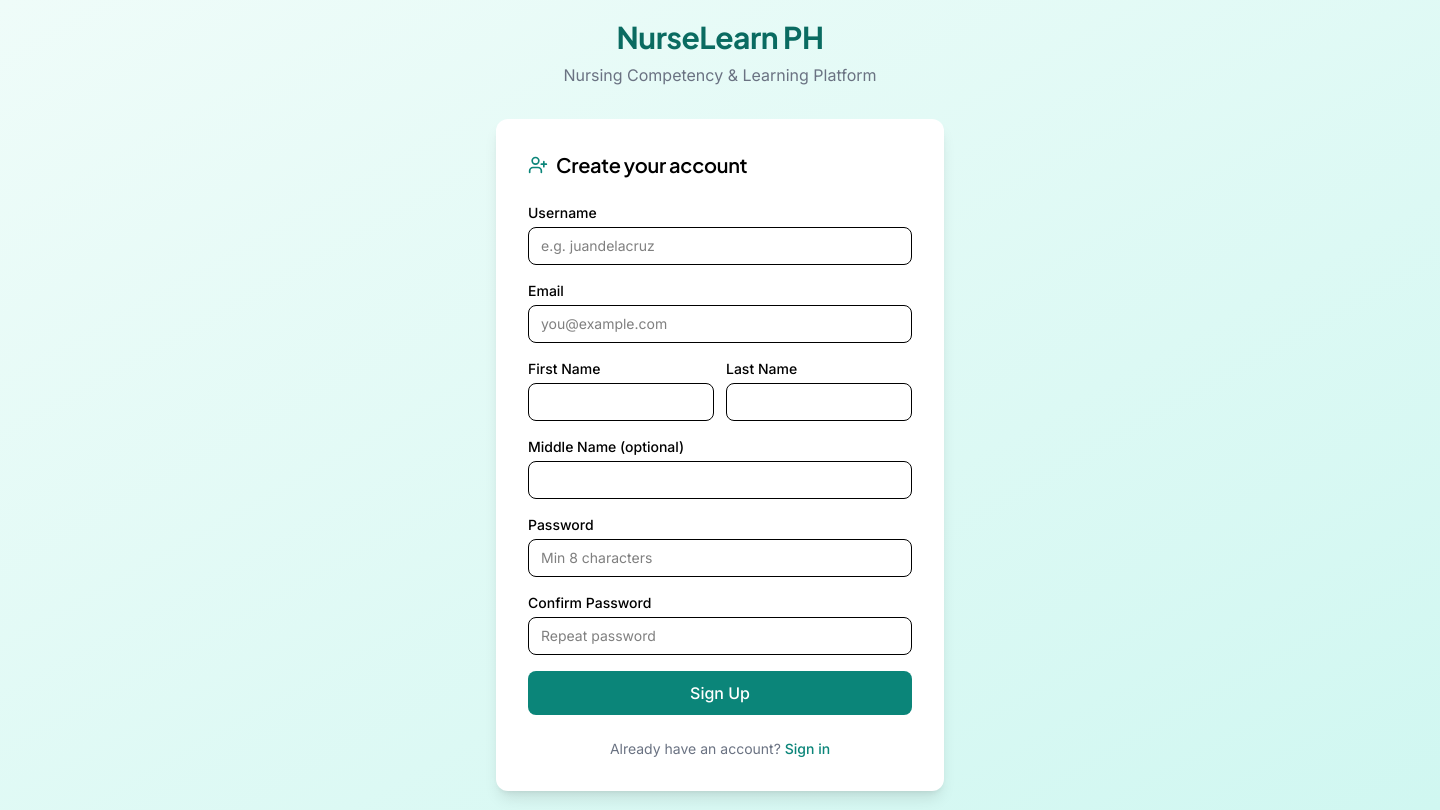
Test: SignupPage › submits registration and shows the check-your-email screen
Expected: the heading "Create your account" is shown, [556,151,747,179]
Type "newnurse01" into the field with test id "signup-username" at (720, 246), box [528,227,912,265]
Type "newnurse01@example.com" into the field with test id "signup-email" at (720, 324), box [528,305,912,343]
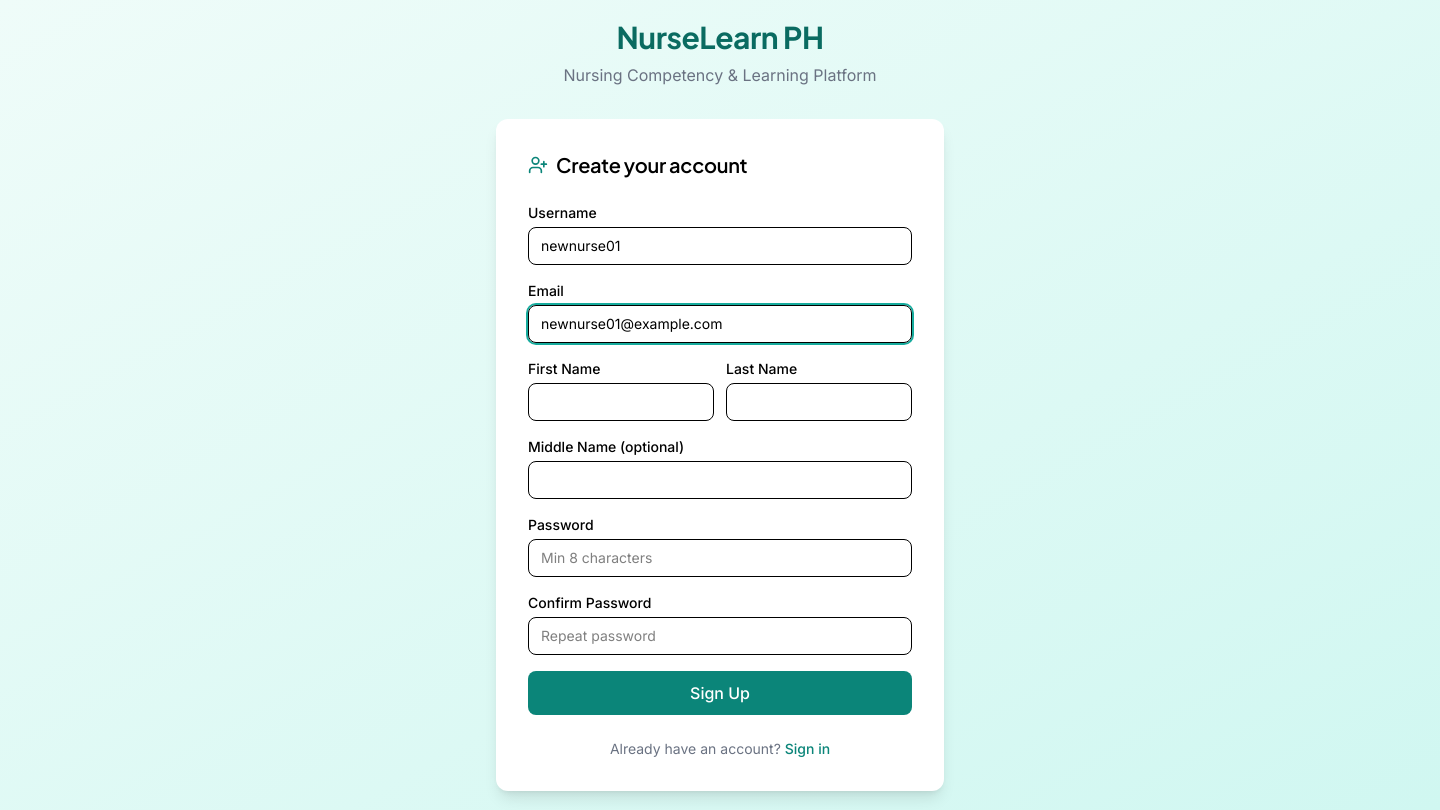
Type "Maria" into the field with test id "signup-firstName" at (621, 402), box [528,383,714,421]
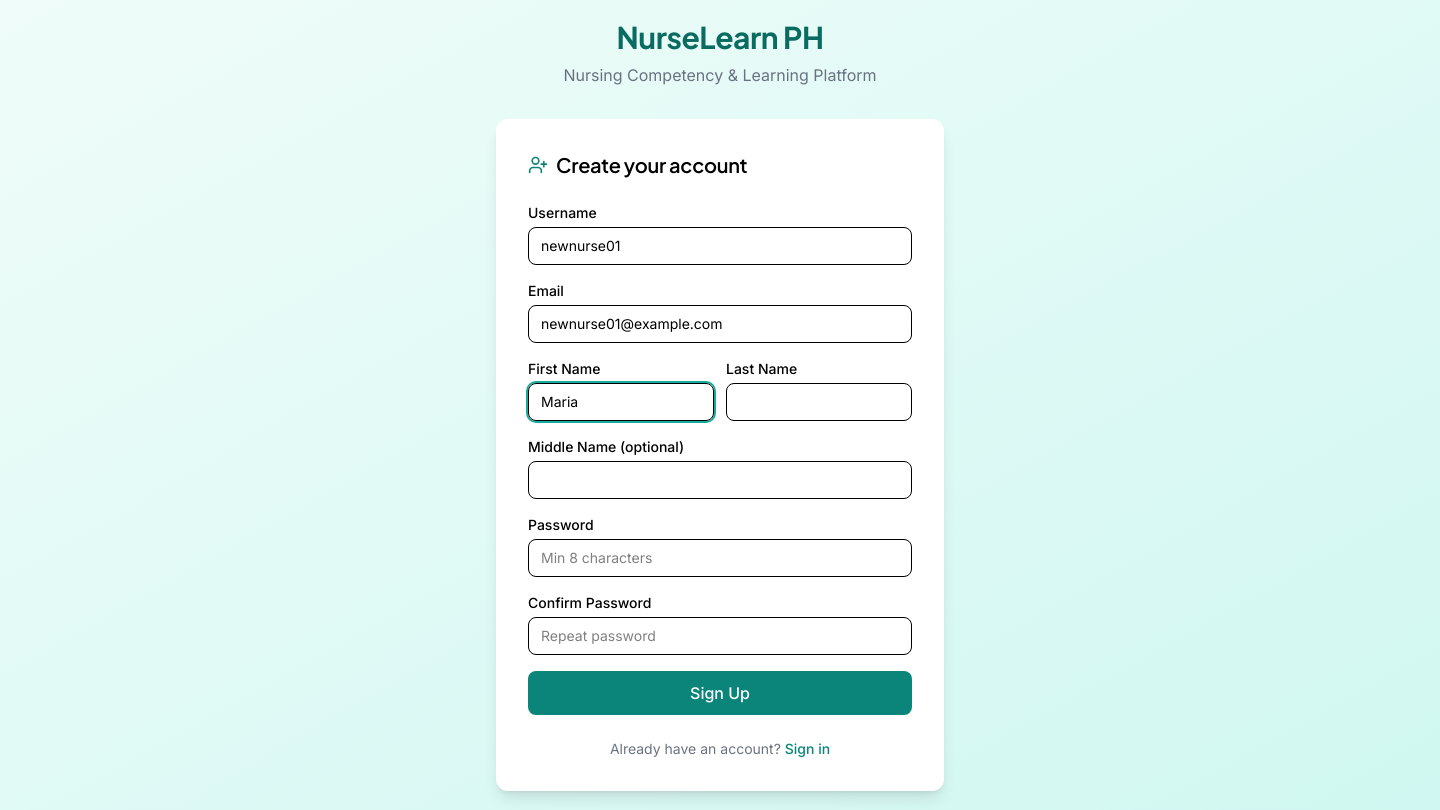
Type "Clara" into the field with test id "signup-lastName" at (819, 402), box [726,383,912,421]
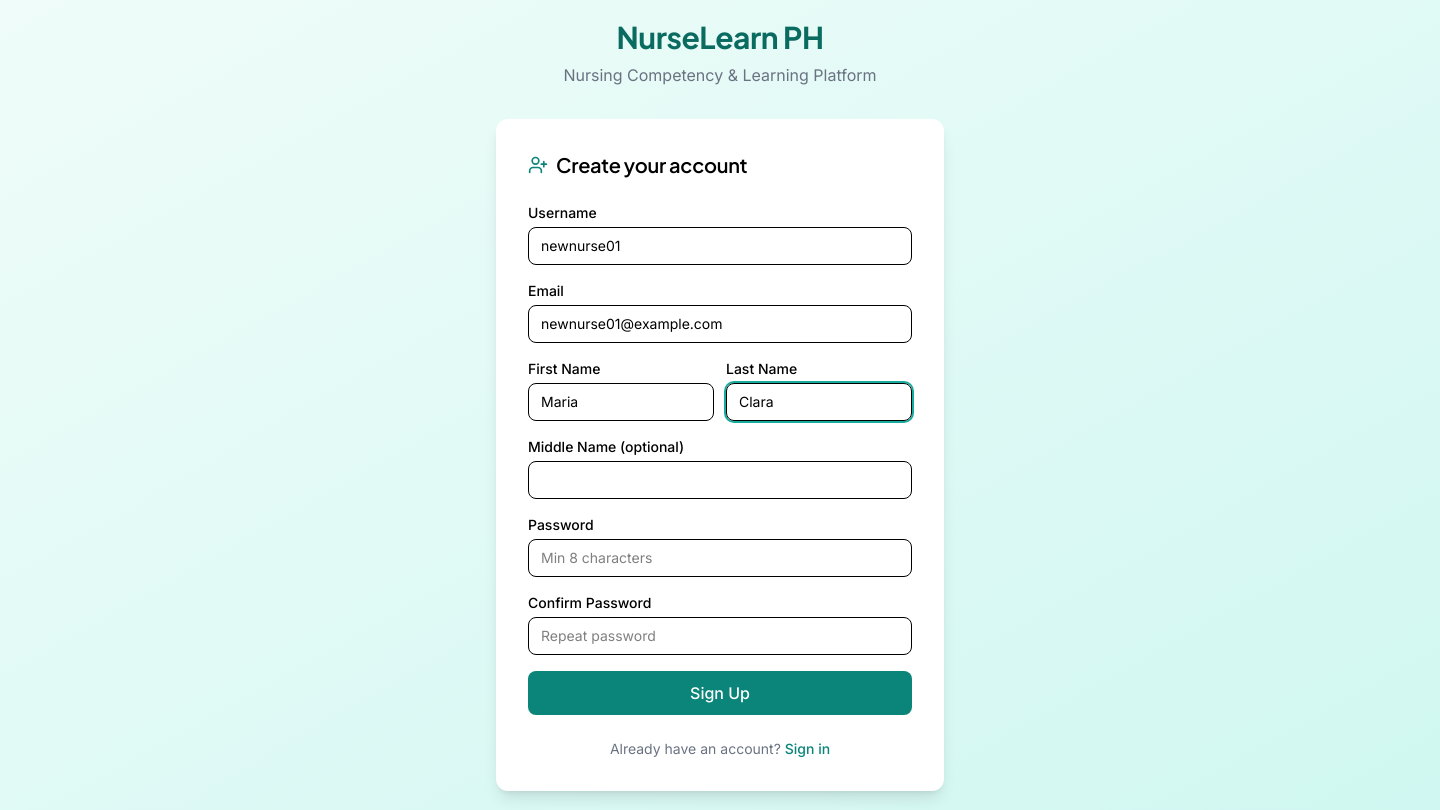
Type "secret123" into the password field with test id "signup-password" at (720, 558), box [528,539,912,577]
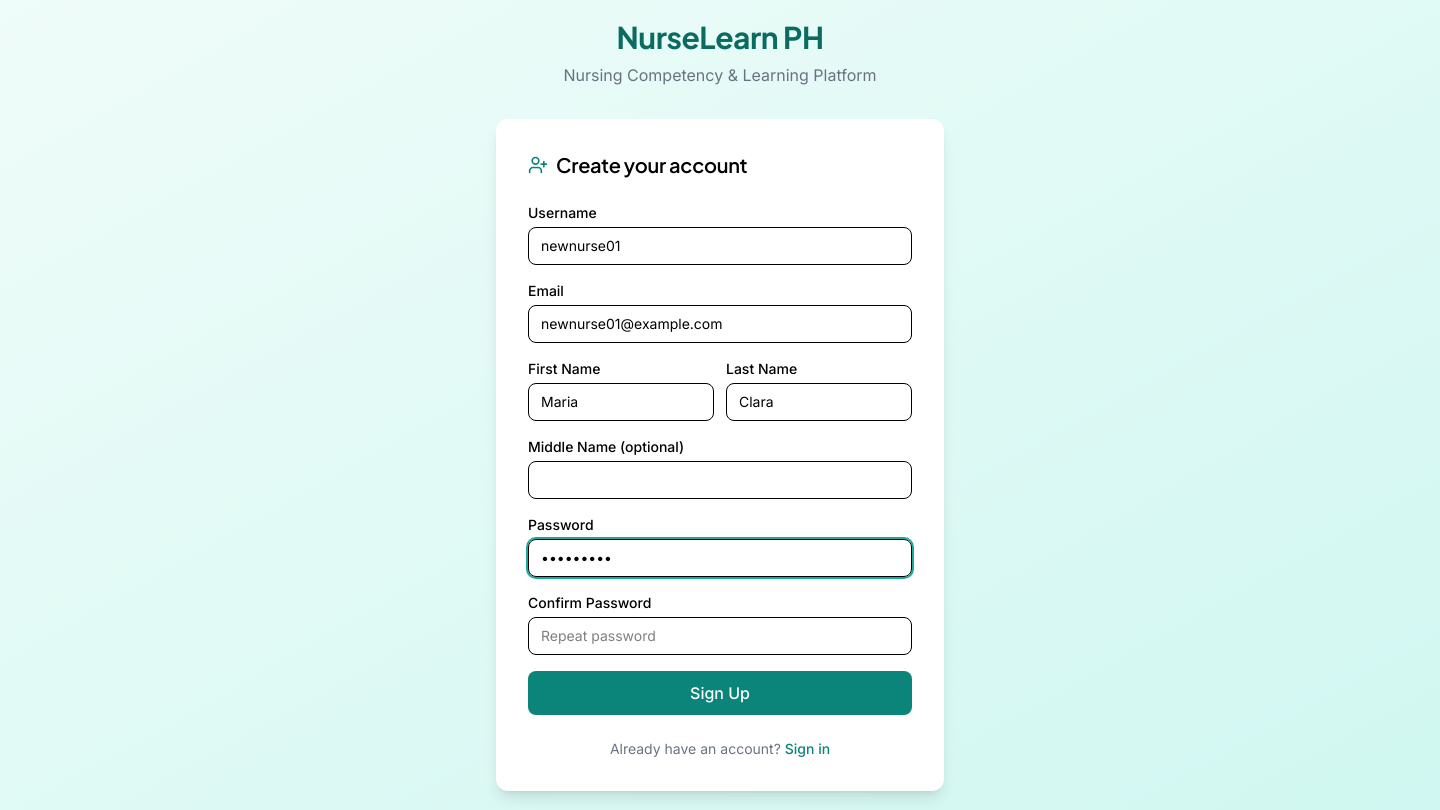
Type "secret123" into the password field with test id "signup-confirmPassword" at (720, 636), box [528,617,912,655]
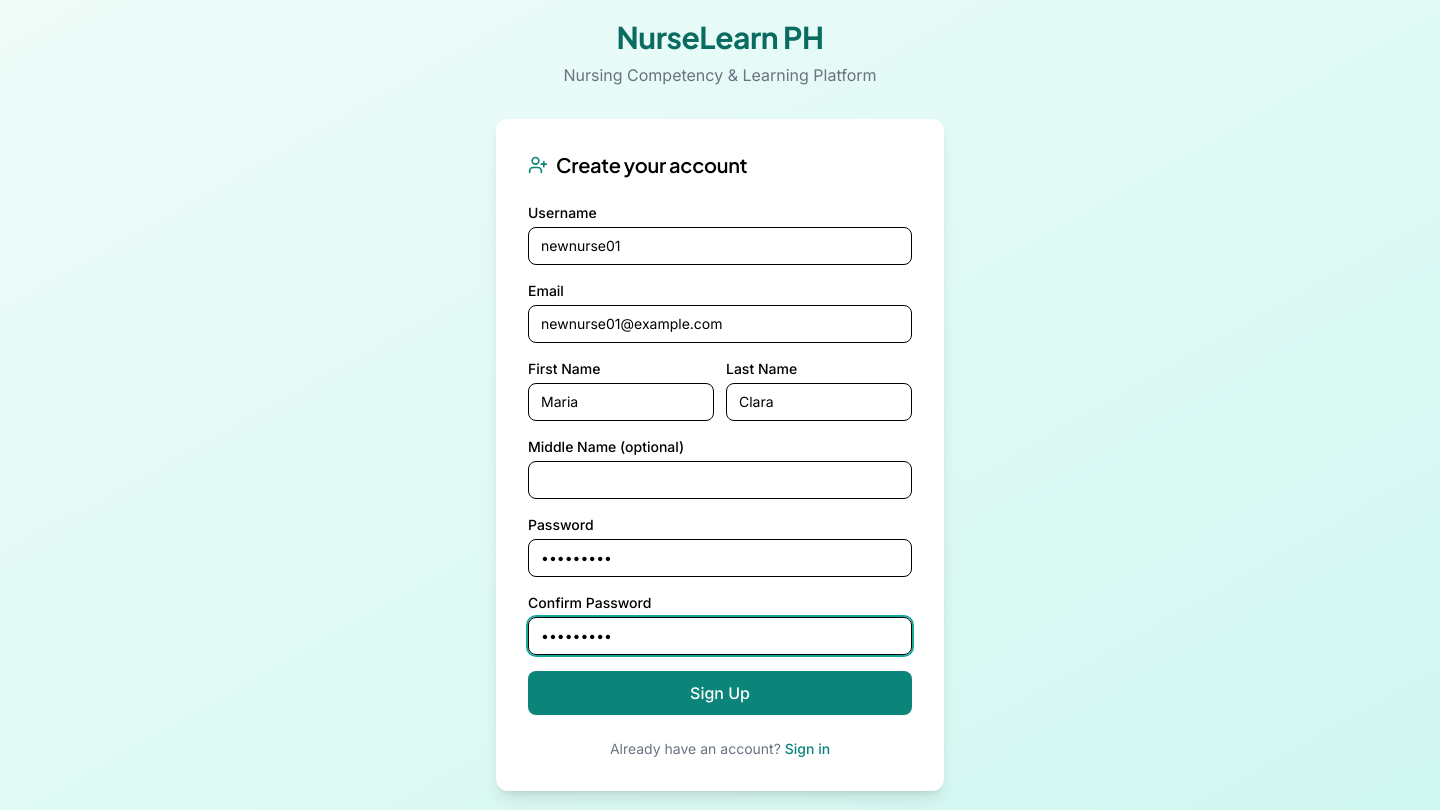
Click the button "Sign Up" at (720, 693), box [528,671,912,715]
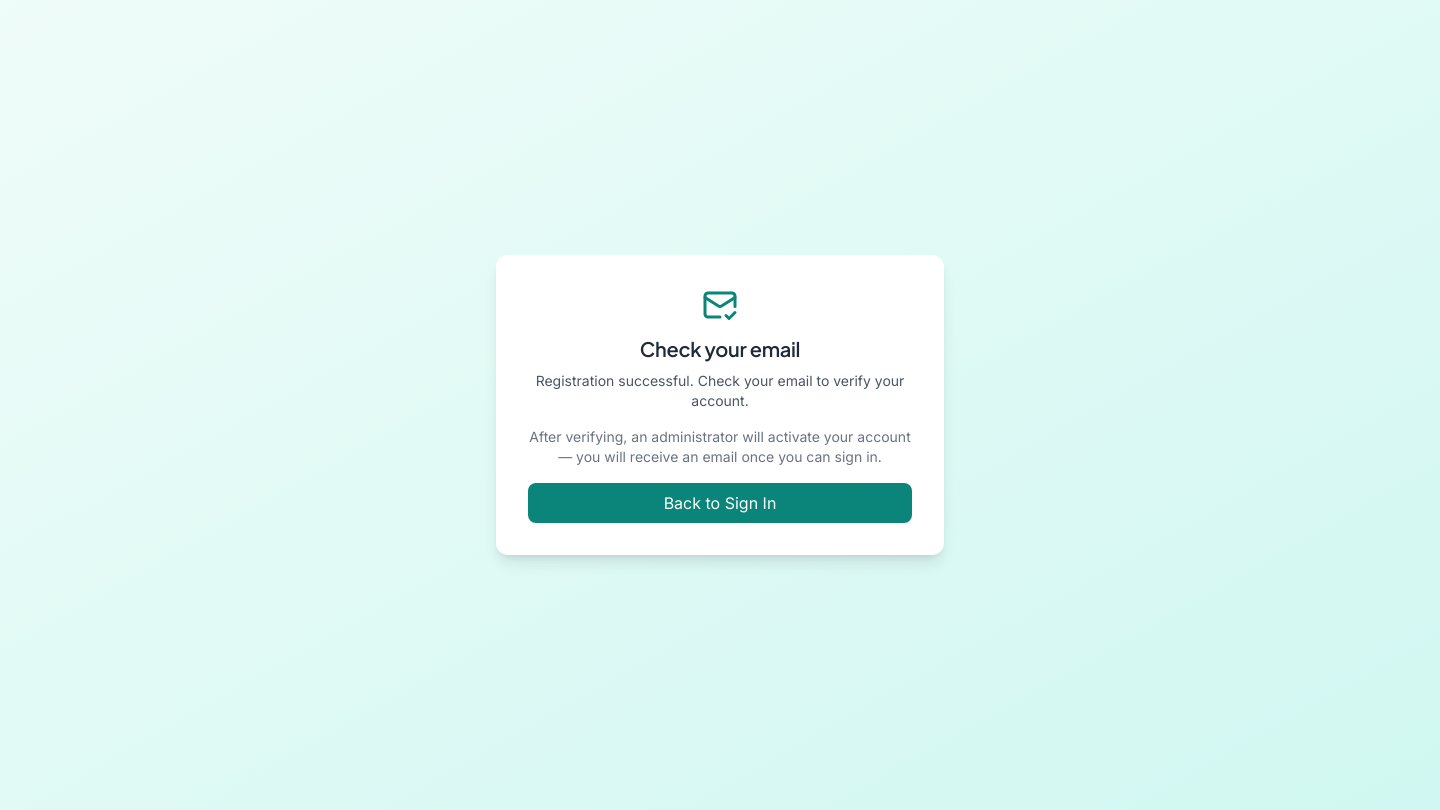
Result: the heading "Check your email" is shown at [640,336,800,361]
Result: the text "Registration successful. Check your email to verify your account." is shown at [528,371,912,411]
